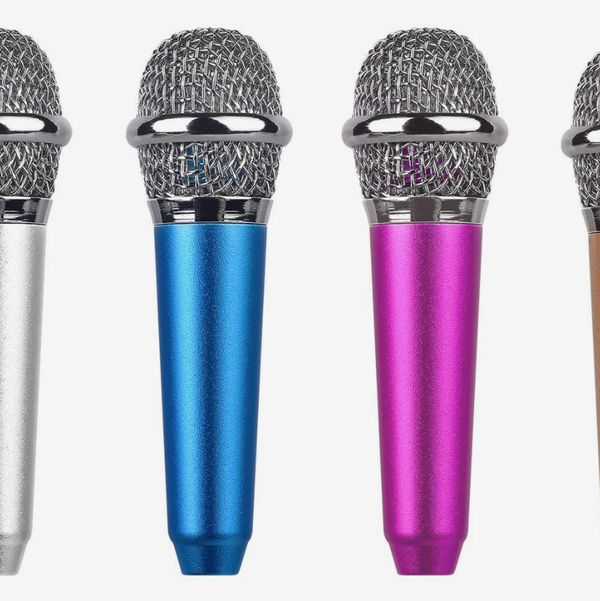microphone: (340, 24, 515, 582), (124, 24, 296, 581), (1, 21, 76, 579), (558, 49, 598, 479)
